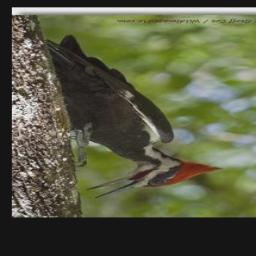Woodpecker: (45, 34, 225, 199)
